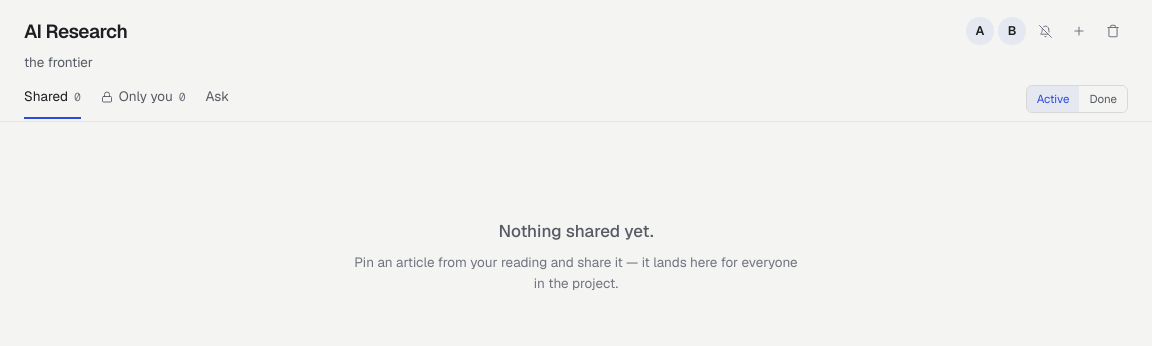
Scenario: ProjectPage › surfaces a delete failure
Click the button titled "Delete project".
click(1113, 31)  # box [1098, 16, 1128, 46]
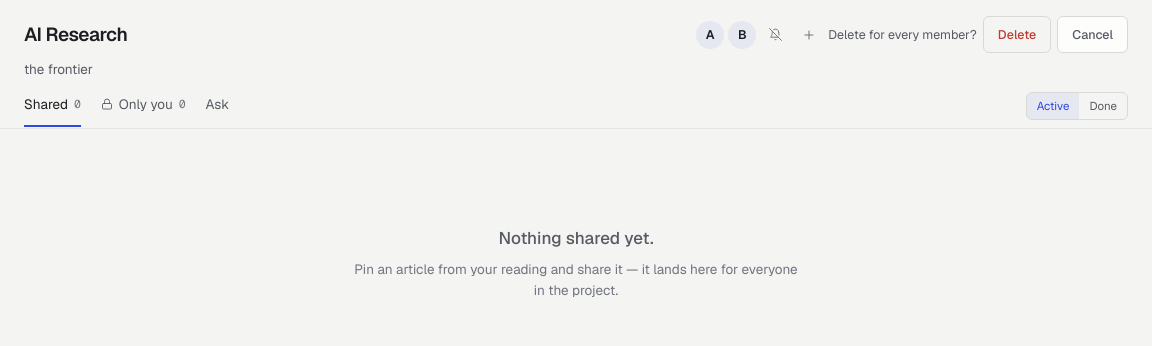
Click the button "Delete".
click(1017, 35)  # box [983, 16, 1051, 53]
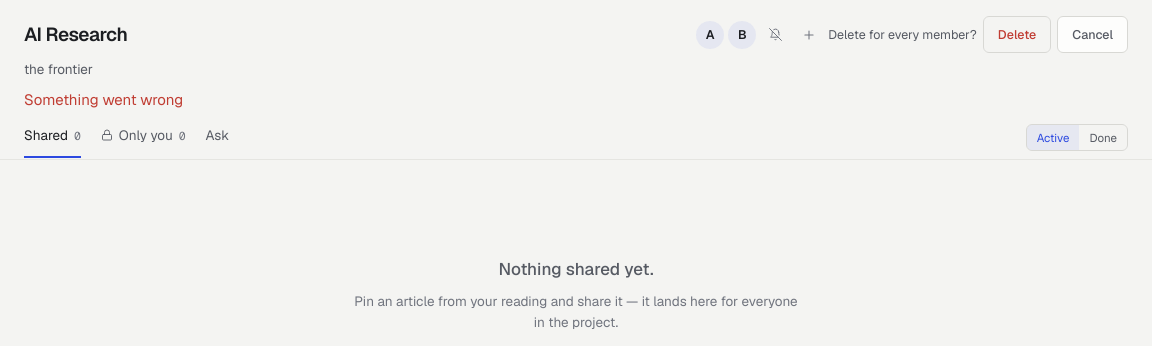
Check: the text "Something went wrong" is shown, box [24, 90, 183, 109]
